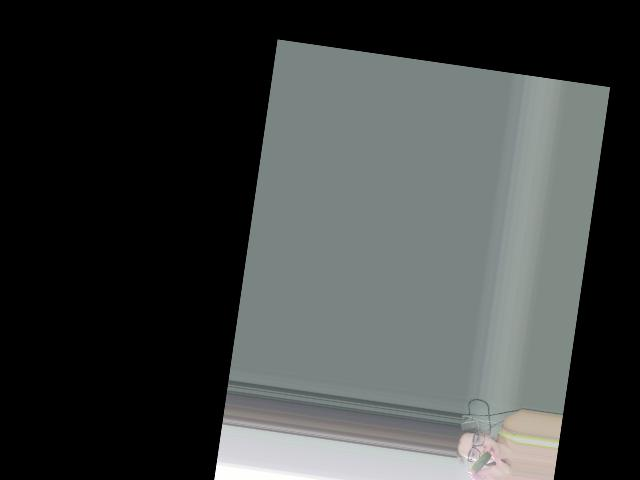cucumber: (470, 449, 492, 473)
